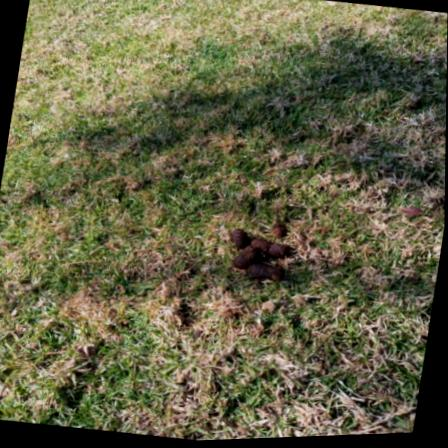dog-poop: (213, 220, 294, 293)
